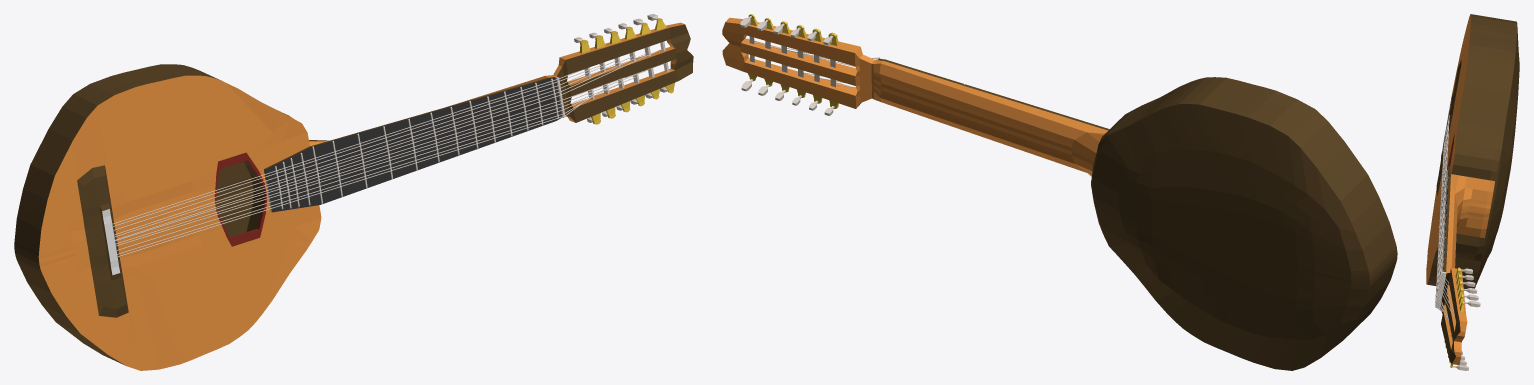
Rendered from Lute.fbx.
3 renders of one model, left to right at view 1: azimuth 30°, elevation 25°; view 2: azimuth 150°, elevation 25°; view 3: azimuth 270°, elevation 25°, orthographic. The views are drawn at different scales.
Parts seen in each view (by area): view 1: Cube; view 2: Cube; view 3: Cube.
Part boxes in pixels (box(x1,y1,x2,y2)): Cube: box(14, 14, 693, 370); Cube: box(722, 14, 1397, 370); Cube: box(1426, 14, 1519, 370).
Size of the model in its own units: 144 by 57.35 by 19.76.
